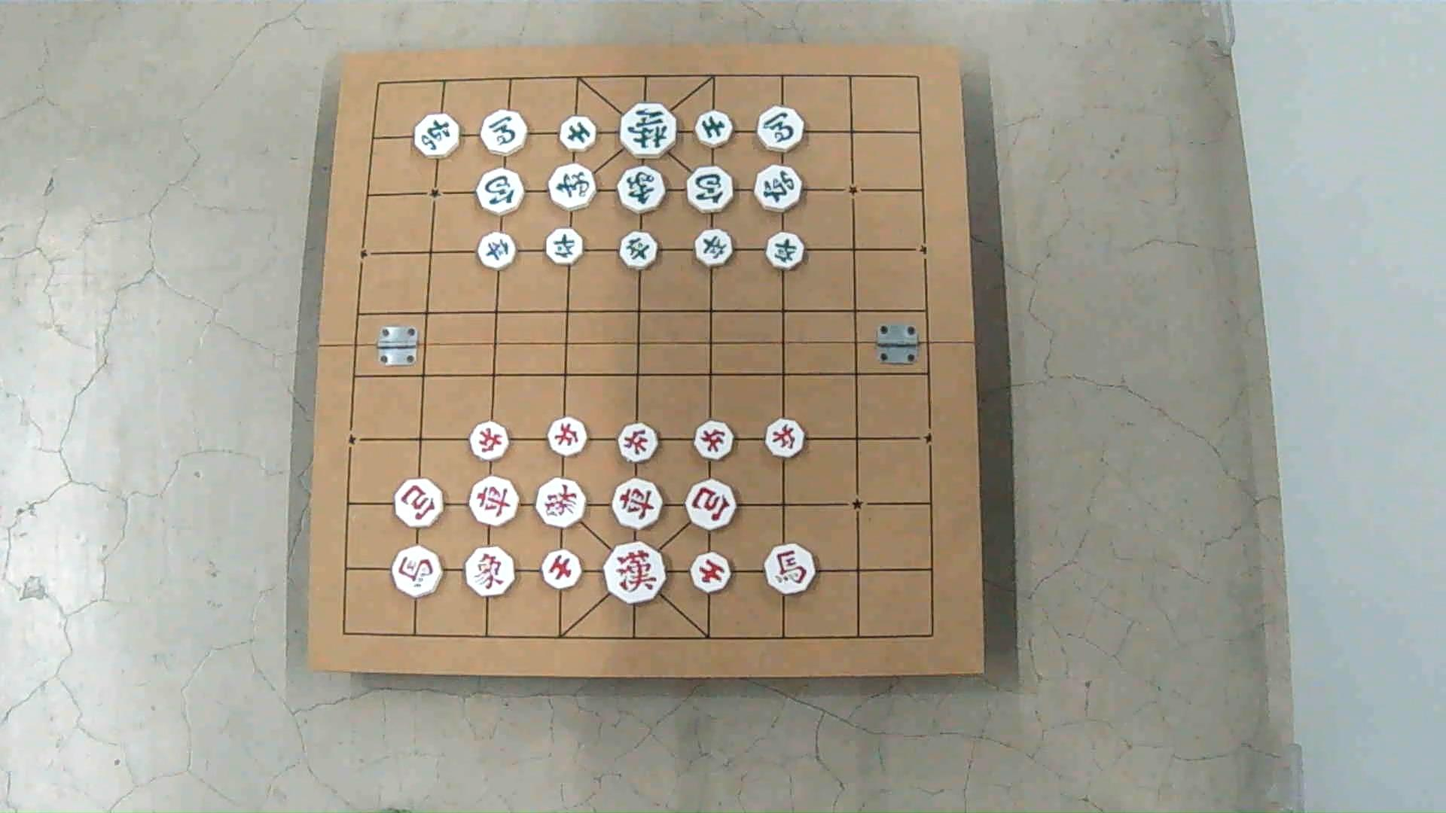cha_green: (755, 165, 804, 212), (413, 114, 460, 157)
cha_red: (612, 478, 662, 528), (468, 477, 519, 525)
jol_green: (619, 231, 657, 269), (477, 232, 515, 269), (767, 232, 805, 269), (696, 229, 733, 266), (546, 228, 583, 264)
jol_red: (468, 421, 509, 461), (618, 422, 658, 462), (765, 419, 805, 458), (695, 420, 734, 460), (548, 417, 587, 456)
ma_green: (480, 109, 529, 155), (757, 106, 805, 151)
ma_red: (392, 546, 443, 596), (765, 544, 815, 593)
po_green: (686, 165, 735, 213), (475, 167, 523, 214)
po_red: (686, 480, 737, 530), (394, 478, 444, 527)
sa_green: (695, 110, 734, 148), (559, 115, 596, 151)
sa_red: (691, 552, 731, 592), (541, 550, 582, 589)
sang_green: (618, 165, 666, 213), (548, 163, 597, 210)
sang_red: (535, 478, 586, 527), (465, 547, 515, 595)
wang_green: (620, 102, 679, 157)
wang_red: (605, 541, 666, 603)
